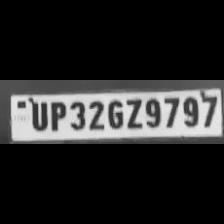2: (85, 97, 105, 130)
3: (66, 97, 86, 130)
7: (198, 94, 218, 128), (161, 95, 179, 129)
9: (178, 94, 200, 128), (142, 96, 162, 128)
G: (104, 97, 124, 131)
P: (46, 98, 66, 132)
U: (26, 99, 48, 131)
Z: (122, 96, 142, 130)
